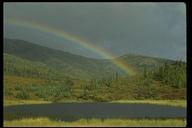mountain: (6, 35, 186, 93)
sky: (54, 5, 183, 43)
water: (6, 94, 187, 124)
